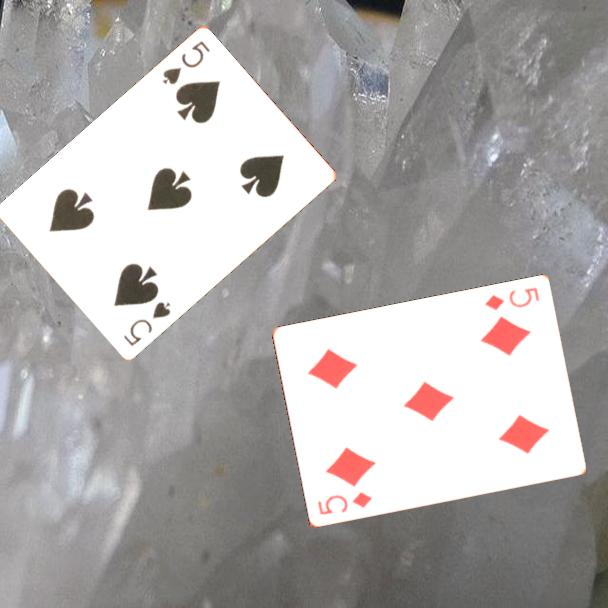d05: (481, 284, 542, 314), (314, 489, 375, 518)
s05: (159, 37, 213, 88), (120, 299, 174, 349)
